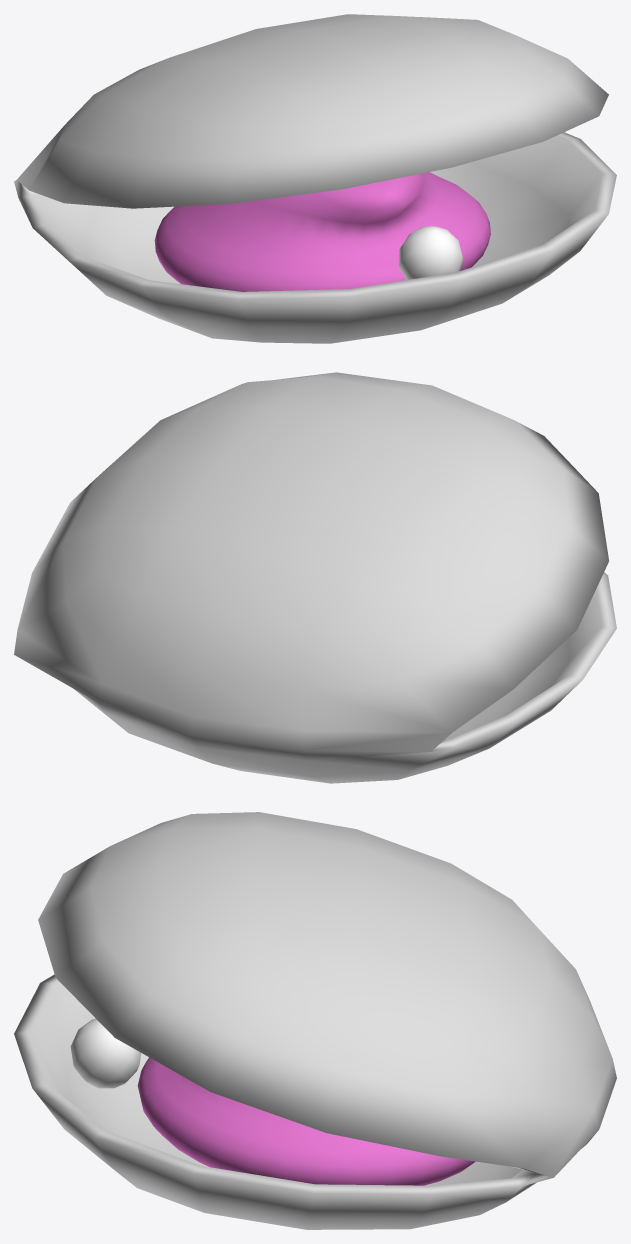
The model's file is Clam.fbx.
3 renders of one model, top to bottom at view 1: azimuth 30°, elevation 25°; view 2: azimuth 150°, elevation 25°; view 3: azimuth 270°, elevation 25°, orthographic. The views are drawn at different scales.
Visible parts, largest first — view 1: Clam; view 2: Clam; view 3: Clam.
Boxes of the visible parts, x1,y1,x2,y2 form: Clam: (14, 14, 616, 343); Clam: (14, 372, 616, 783); Clam: (14, 812, 616, 1229).
Size of the model in its own units: 0.4026 by 0.2099 by 0.3776.
